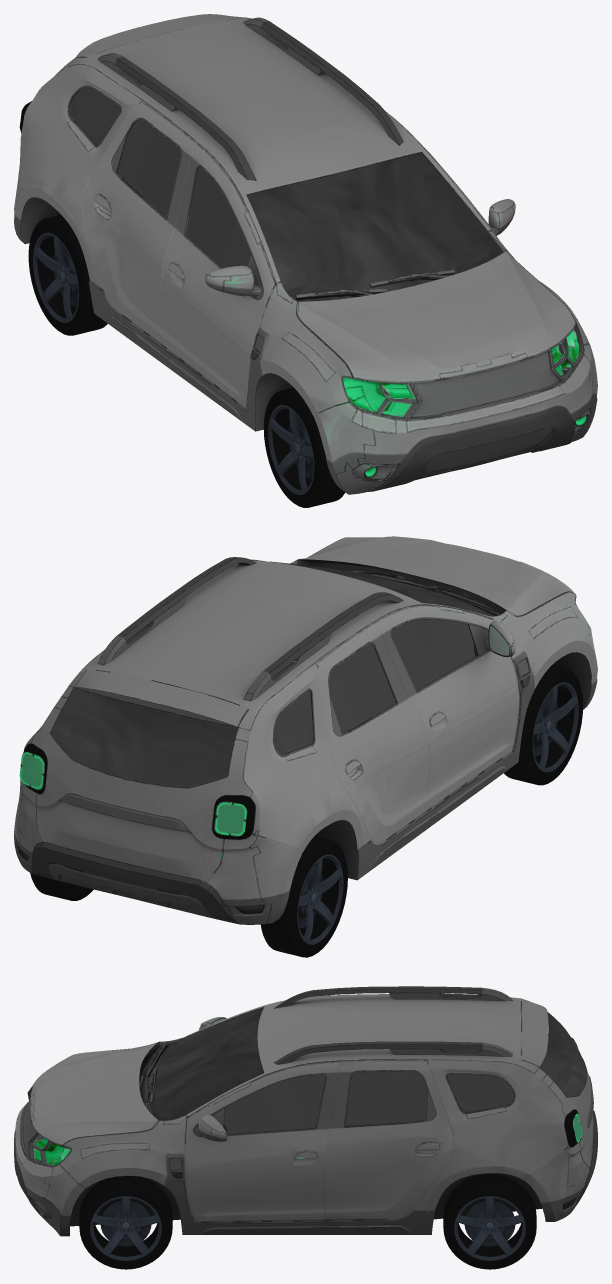
The model's file is car_B_v3_yellow.glb.
3 views of the same model, one above another, from view 1: azimuth 30°, elevation 25°; view 2: azimuth 150°, elevation 25°; view 3: azimuth 270°, elevation 25° (orthographic). The views are drawn at different scales.
Parts seen in each view (by area): view 1: body, Dacia_Duster_2018_FR_wheel, Dacia_Duster_2018_BR_wheel; view 2: body, Dacia_Duster_2018_BR_wheel, Dacia_Duster_2018_FR_wheel, Dacia_Duster_2018_BL_wheel; view 3: body, Dacia_Duster_2018_BL_wheel, Dacia_Duster_2018_FL_wheel.
Boxes of the visible parts, box(x1,y1,x2,y2) form: body: box(14, 14, 597, 494); Dacia_Duster_2018_FR_wheel: box(263, 387, 345, 507); Dacia_Duster_2018_BR_wheel: box(28, 214, 107, 335); body: box(14, 536, 597, 924); Dacia_Duster_2018_BR_wheel: box(261, 836, 347, 957); Dacia_Duster_2018_FR_wheel: box(504, 665, 582, 785); Dacia_Duster_2018_BL_wheel: box(30, 873, 93, 900); body: box(14, 986, 597, 1236); Dacia_Duster_2018_BL_wheel: box(443, 1175, 536, 1269); Dacia_Duster_2018_FL_wheel: box(79, 1176, 172, 1269).
Size of the model in its own units: 2.03 by 1.68 by 4.32.
Materials: 2 (2 with a texture image).
